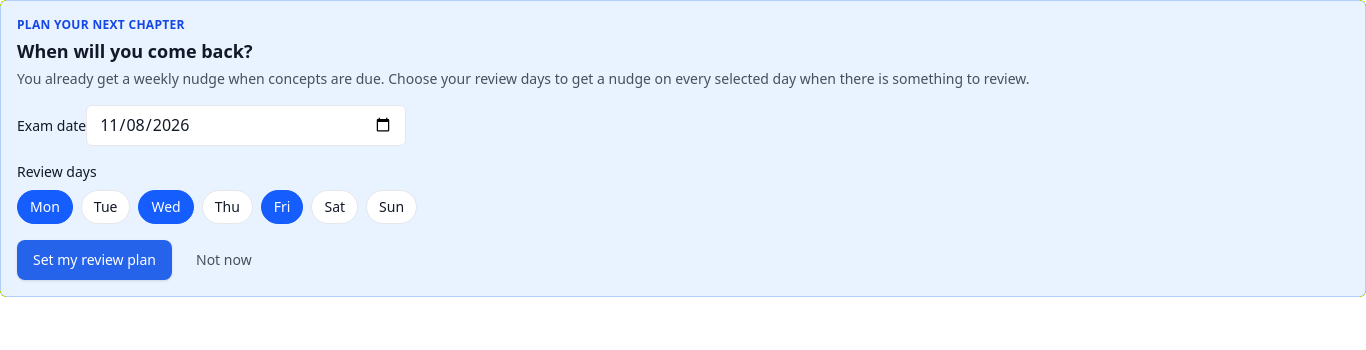
ReviewCommitmentPrompt › preserves selected days and date after a failed save
Expected: the heading "When will you come back?" is shown, [17,39,252,63]
What coordinates should you click on to do the following:
click the button "Tue"
I would click on:
 (106, 207)
Its box is [81,190,130,224].
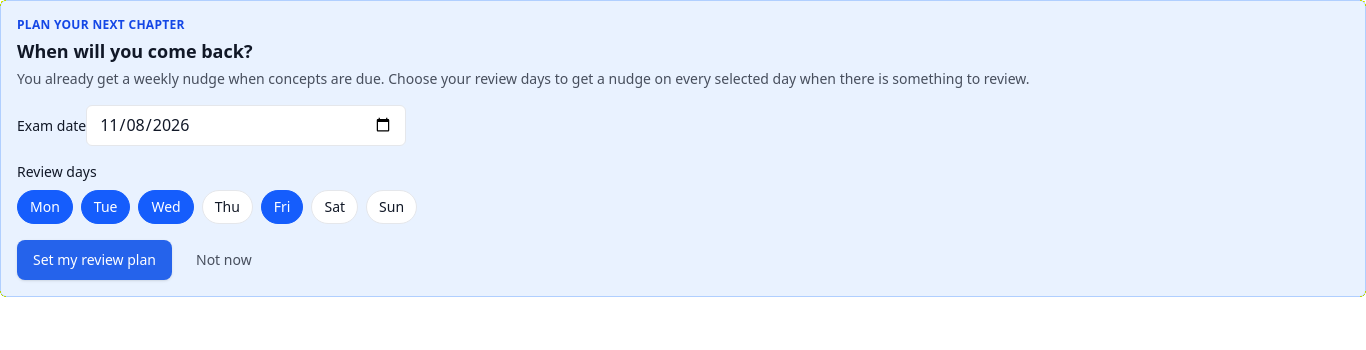
What coordinates should you click on to do the following:
click the button "Set my review plan"
I would click on:
 (94, 260)
Its box is [17,240,172,280].
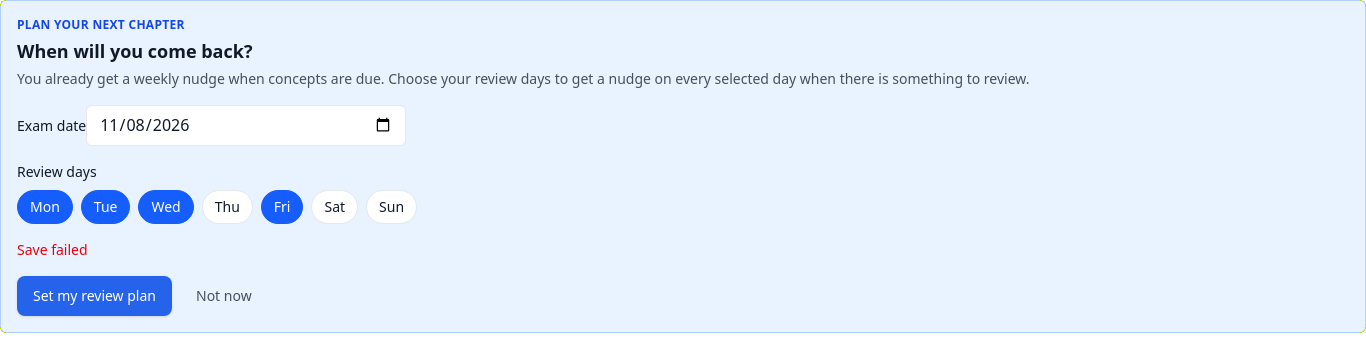
Expected: the date field labelled "Exam date" holds "2026-11-08", [86,105,406,146]
Result: the message reads "Save failed" at [17,240,88,259]
